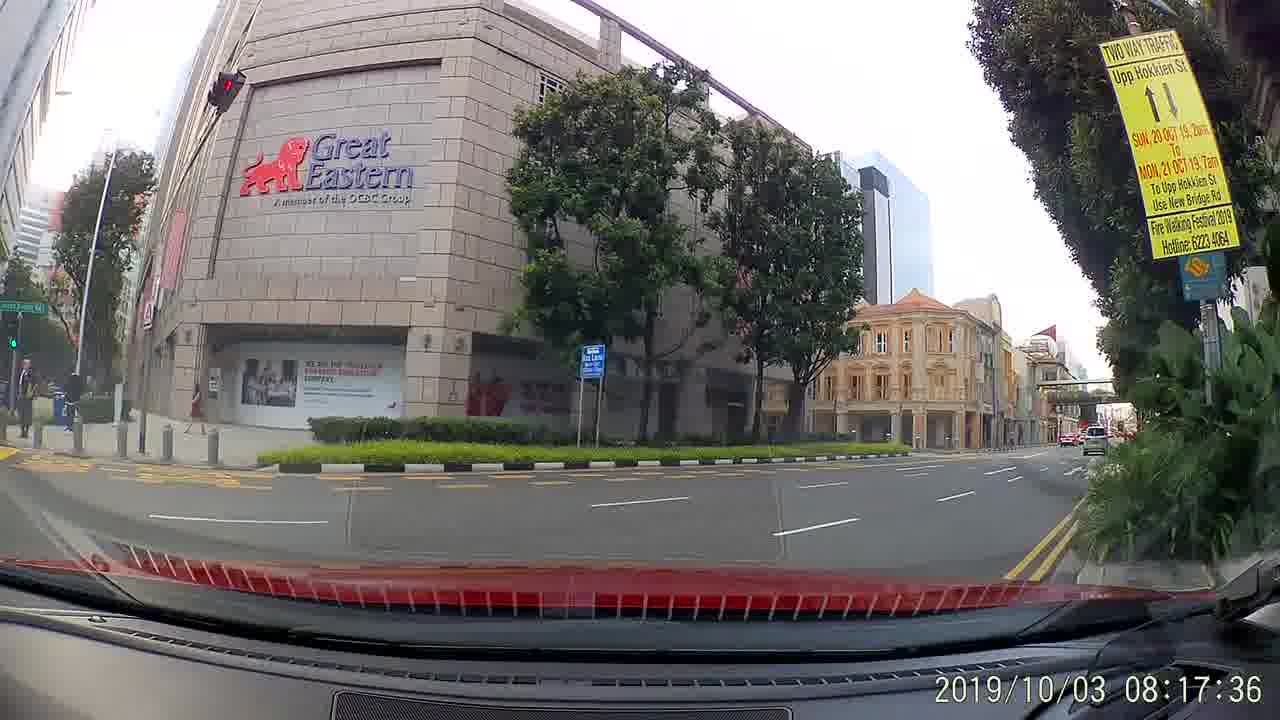car: (1079, 423, 1109, 464), (1059, 430, 1082, 449)
